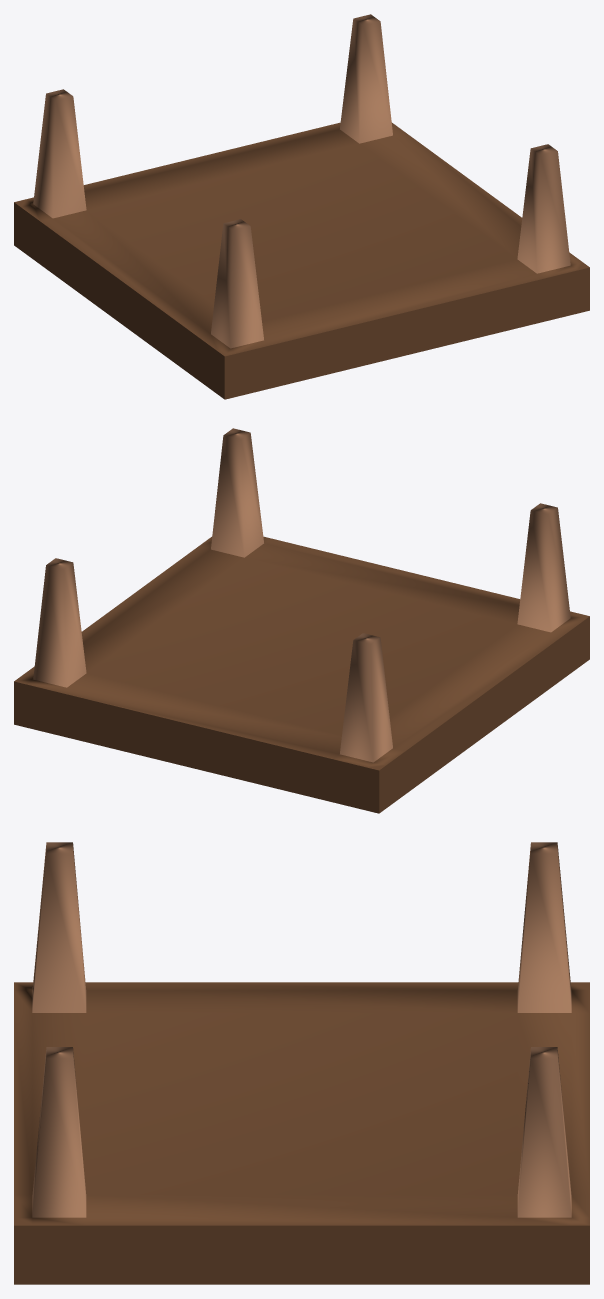
The model's file is LowTable.fbx.
The picture shows the model from 3 angles, top to bottom: view 1: azimuth 30°, elevation 25°; view 2: azimuth 150°, elevation 25°; view 3: azimuth 270°, elevation 25°; orthographic projection. The views are drawn at different scales.
Visible parts, largest first — view 1: pCube96; view 2: pCube96; view 3: pCube96.
Boxes of the visible parts, x1=… form: pCube96: x1=14, y1=14, x2=589, y2=399; pCube96: x1=14, y1=428, x2=589, y2=813; pCube96: x1=14, y1=842, x2=589, y2=1284.
Bounding box in the file's own units: 1000 × 407 × 1000.
